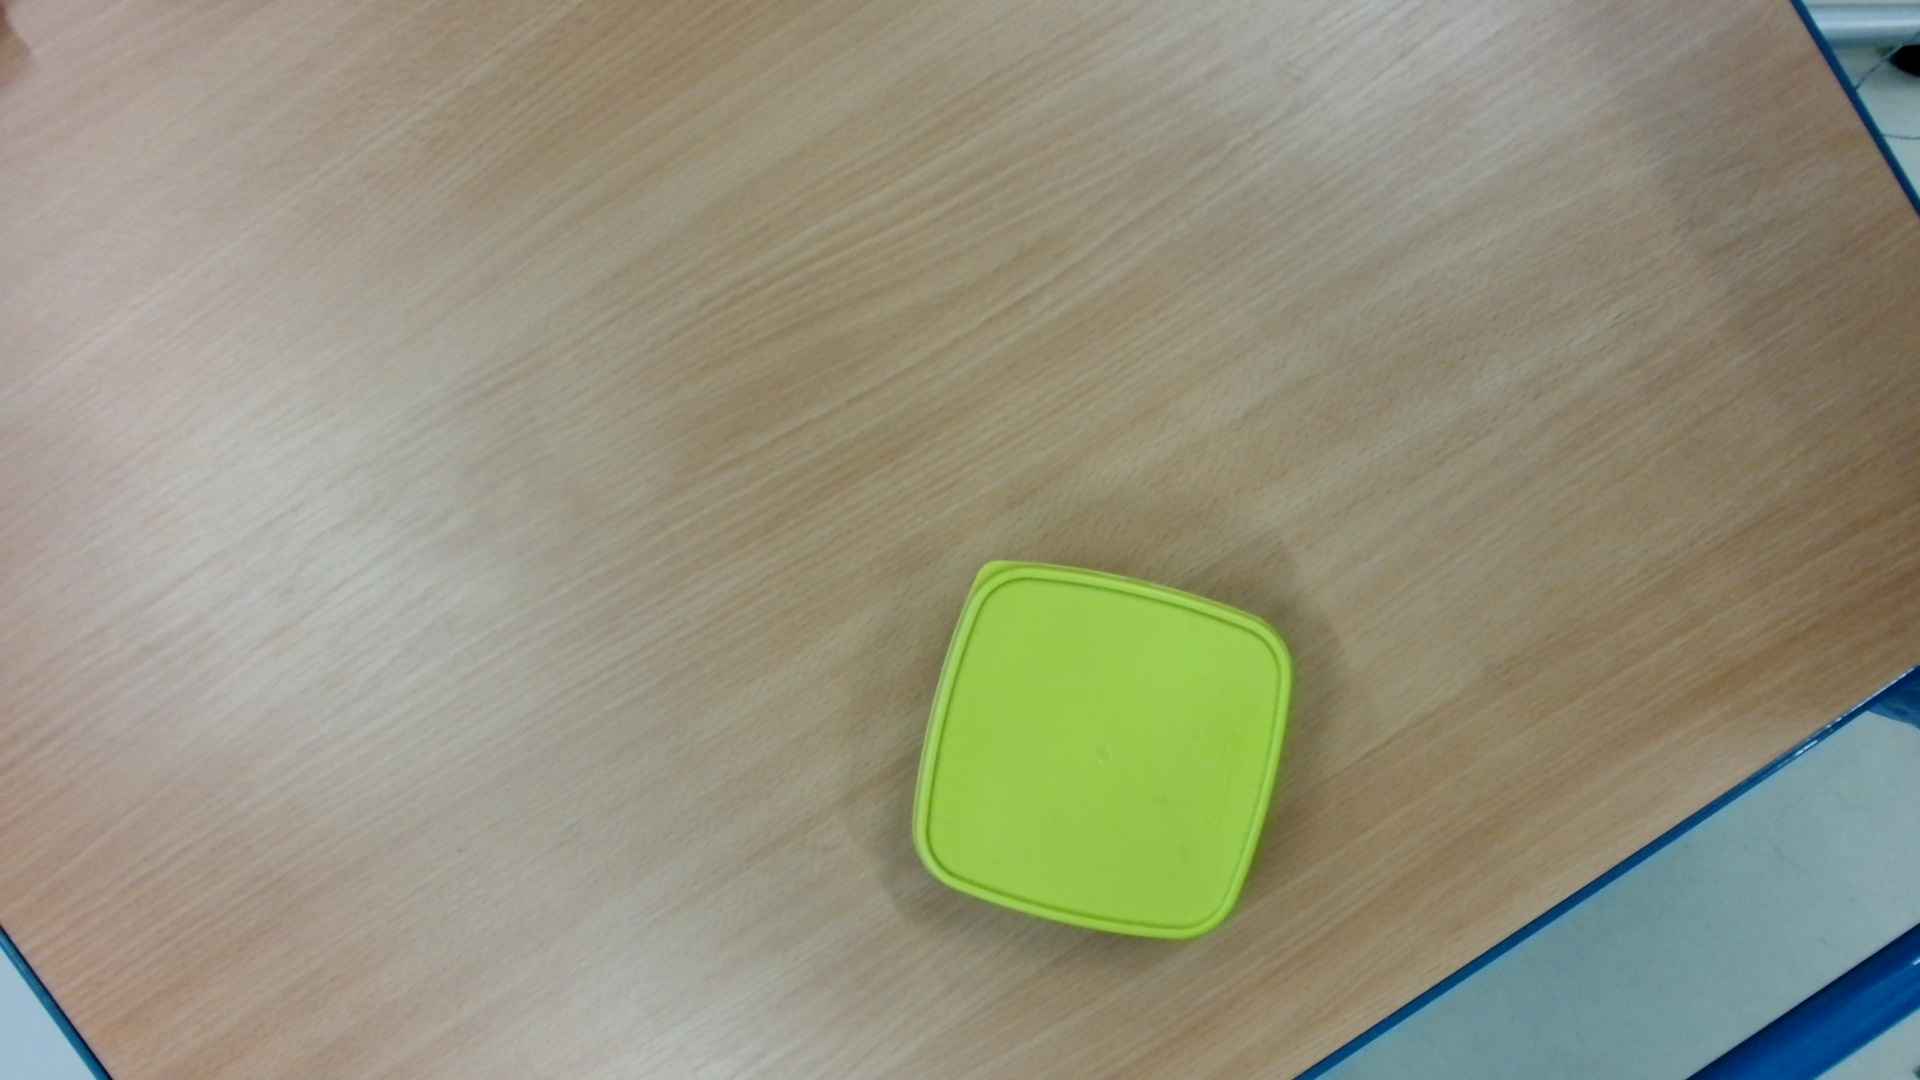Box: (902, 550, 1302, 954)
